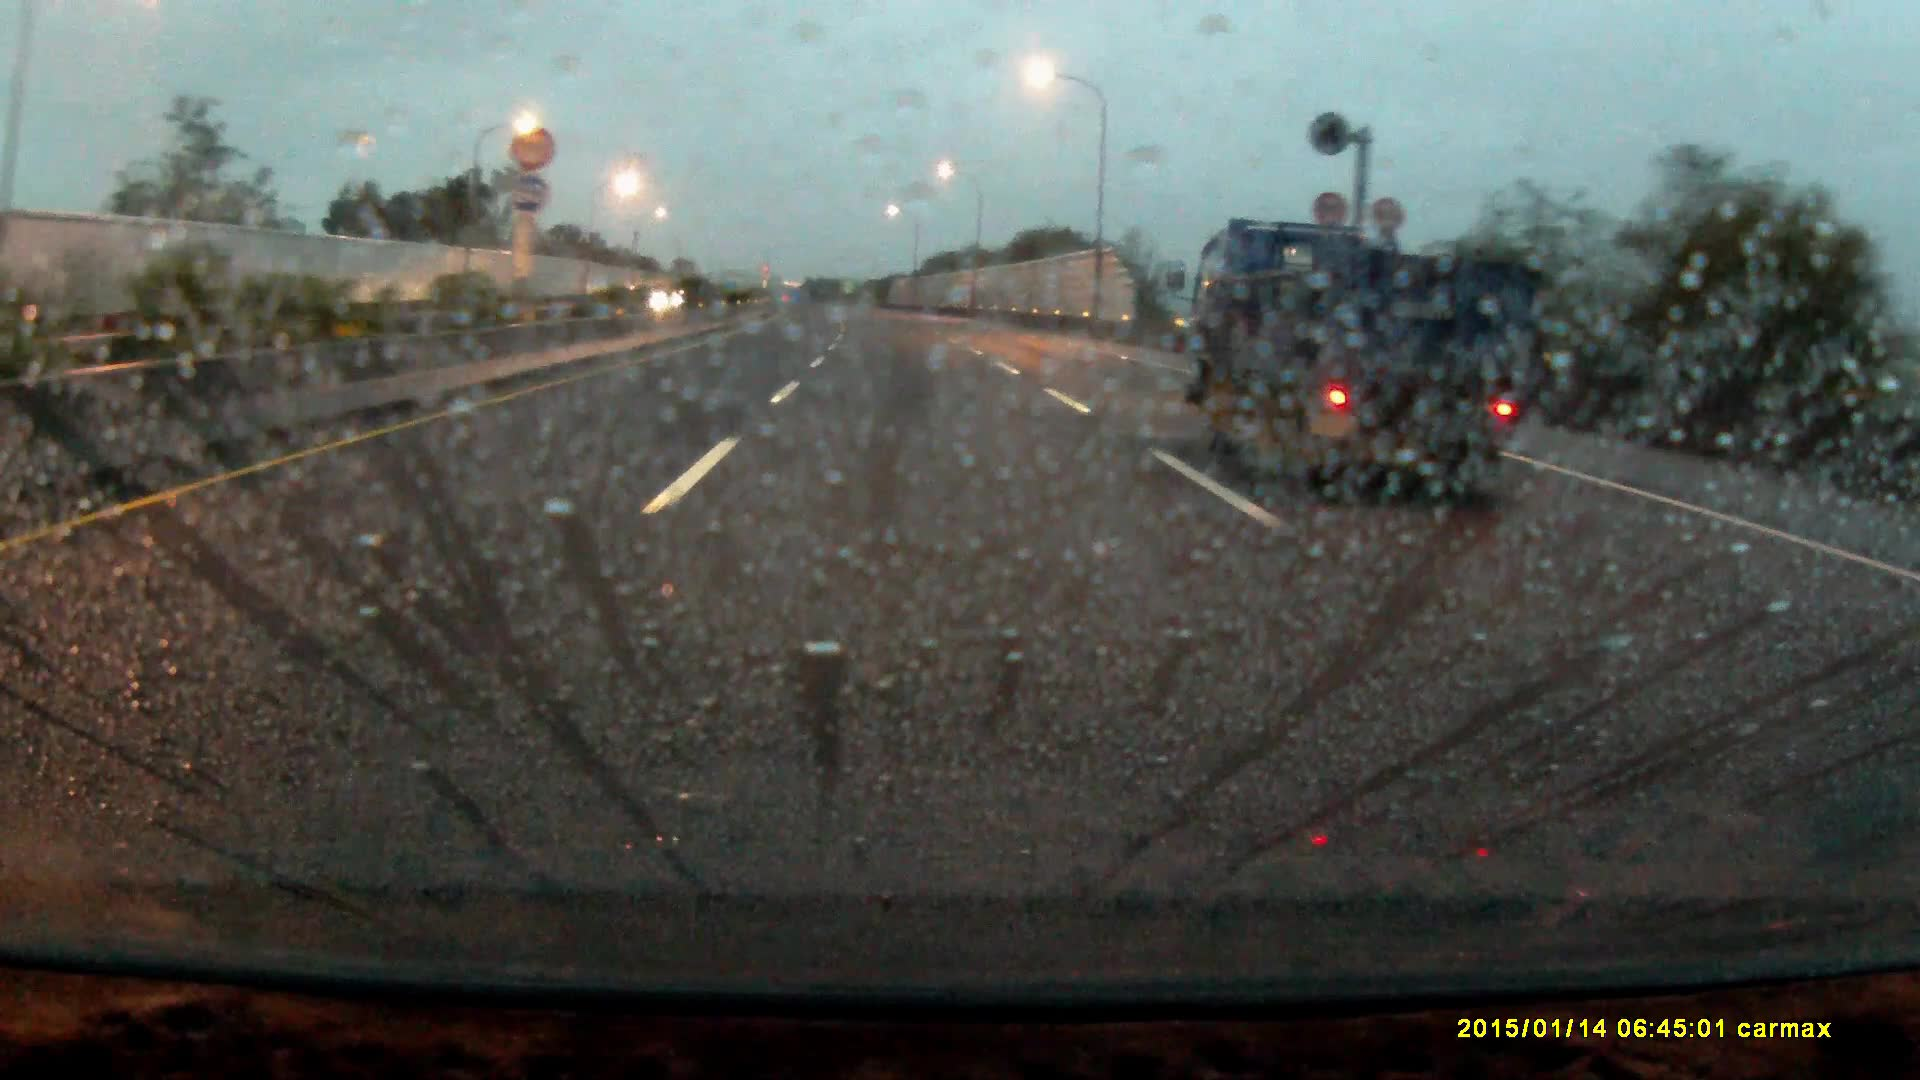vehicle: (1205, 204, 1548, 522)
